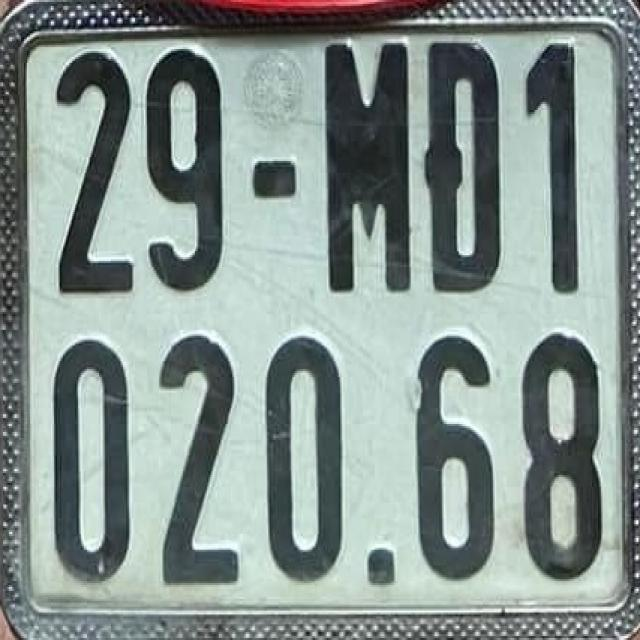0: (260, 324, 352, 589), (45, 330, 139, 587)
1: (517, 29, 594, 298)
2: (150, 324, 249, 591), (43, 40, 141, 302)
6: (408, 326, 499, 585)
8: (517, 324, 607, 585)
9: (140, 39, 236, 298)
D: (420, 32, 511, 298)
M: (321, 35, 415, 298)
